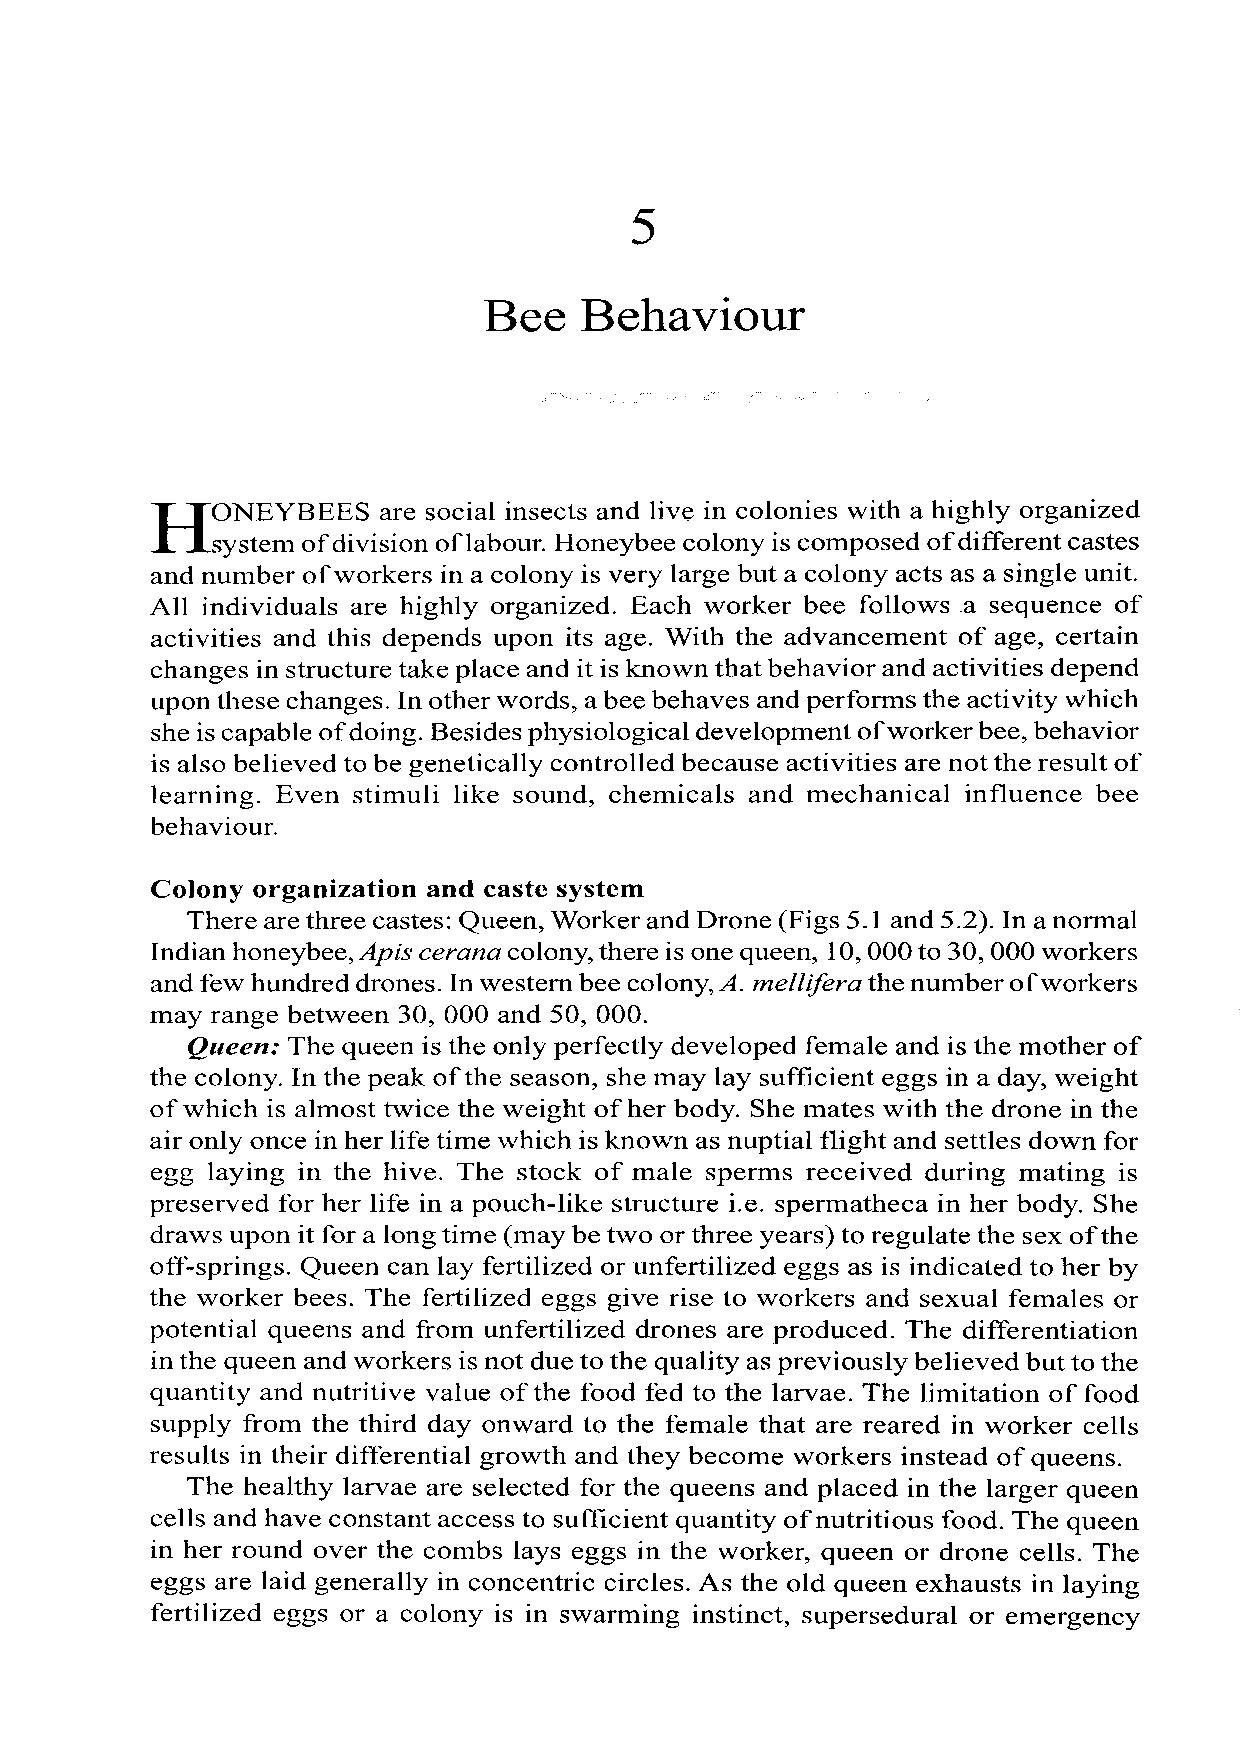chapter: (484, 203, 809, 331)
content: (146, 497, 1139, 1631)
